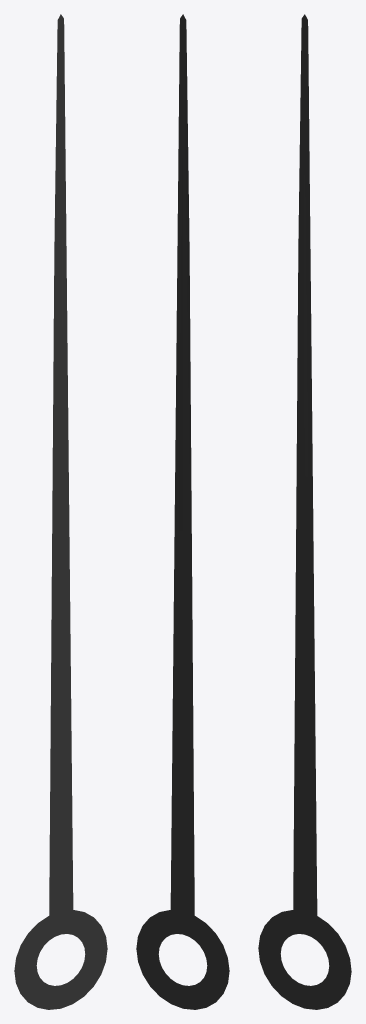
The model's file is second_hand.gltf.
3 views of the same model, side by side, from view 1: azimuth 30°, elevation 25°; view 2: azimuth 150°, elevation 25°; view 3: azimuth 330°, elevation 25° (orthographic).
Parts seen in each view (by area): view 1: second; view 2: second; view 3: second.
Part boxes in pixels (<box>): second: <box>14,14,107,1009</box>; second: <box>136,14,229,1009</box>; second: <box>258,14,351,1009</box>.
Size of the model in its own units: 0.0162 by 0.1646 by 0.000366.
Materials: 1 (1 with a texture image).
